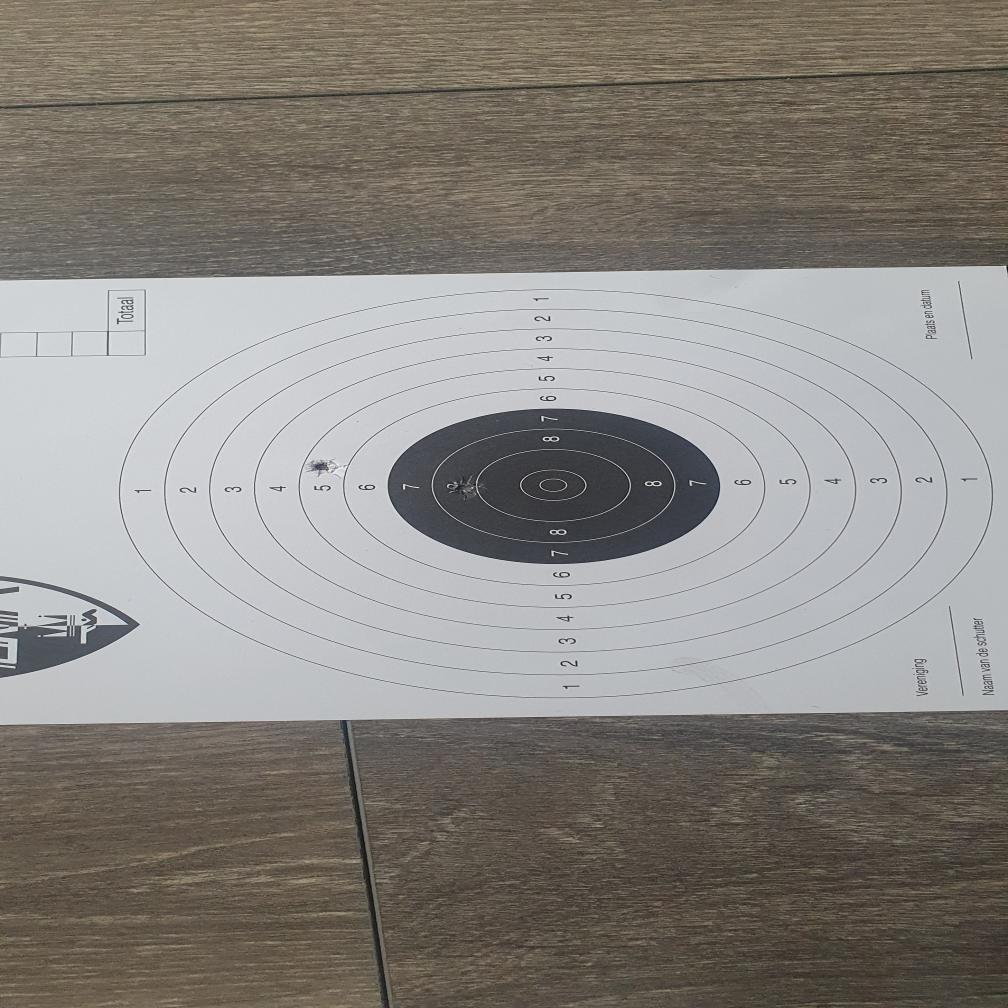5: (302, 457, 349, 479)
9: (446, 474, 488, 500)
Target: (113, 285, 998, 699)
black_contour: (387, 408, 722, 564)
